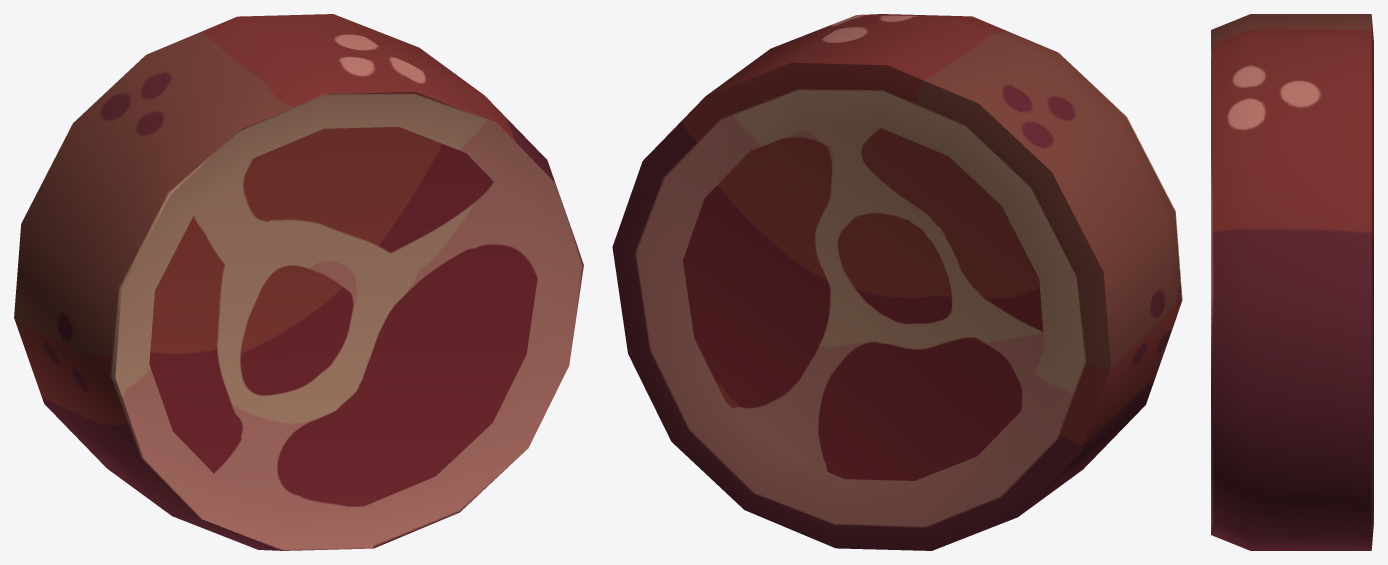
File: meatSlice.fbx
3 renders of one model, left to right at view 1: azimuth 30°, elevation 25°; view 2: azimuth 150°, elevation 25°; view 3: azimuth 270°, elevation 25°, orthographic. The views are drawn at different scales.
Parts seen in each view (by area): view 1: meatSlice; view 2: meatSlice; view 3: meatSlice.
Boxes of the visible parts, x1,y1,x2,y2 form: meatSlice: (14, 14, 583, 550); meatSlice: (612, 14, 1182, 550); meatSlice: (1211, 14, 1373, 550).
Size of the model in its own units: 82.08 by 78.02 by 25.
Materials: 1 (1 with a texture image).
